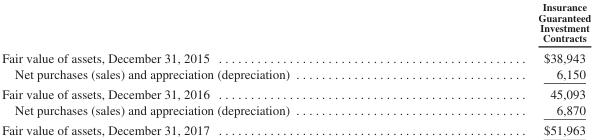table: (1, 0, 590, 137)
table column: (1, 0, 413, 137), (413, 0, 590, 137)
table column header: (1, 0, 590, 46)
table row: (1, 0, 590, 46), (1, 46, 590, 65), (1, 65, 590, 83), (1, 83, 590, 101), (1, 101, 590, 119), (1, 119, 590, 137)
